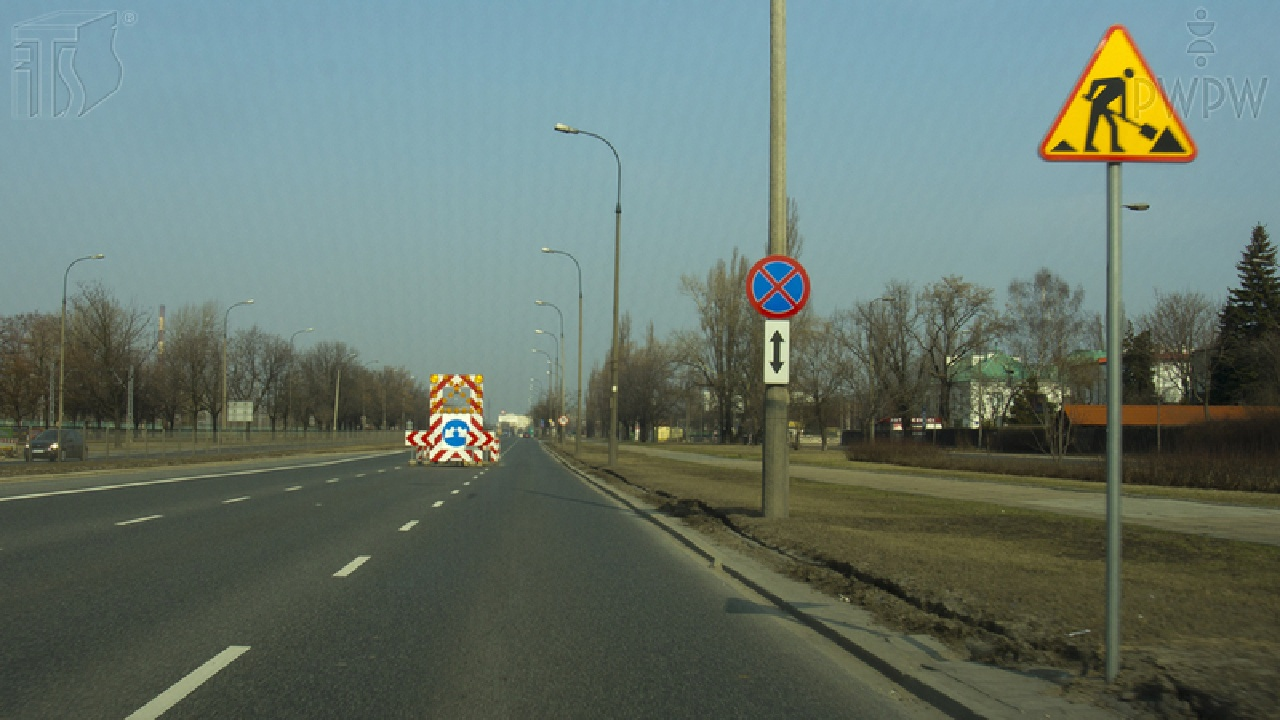A14: (1035, 25, 1198, 168)
B36: (745, 255, 812, 319)
